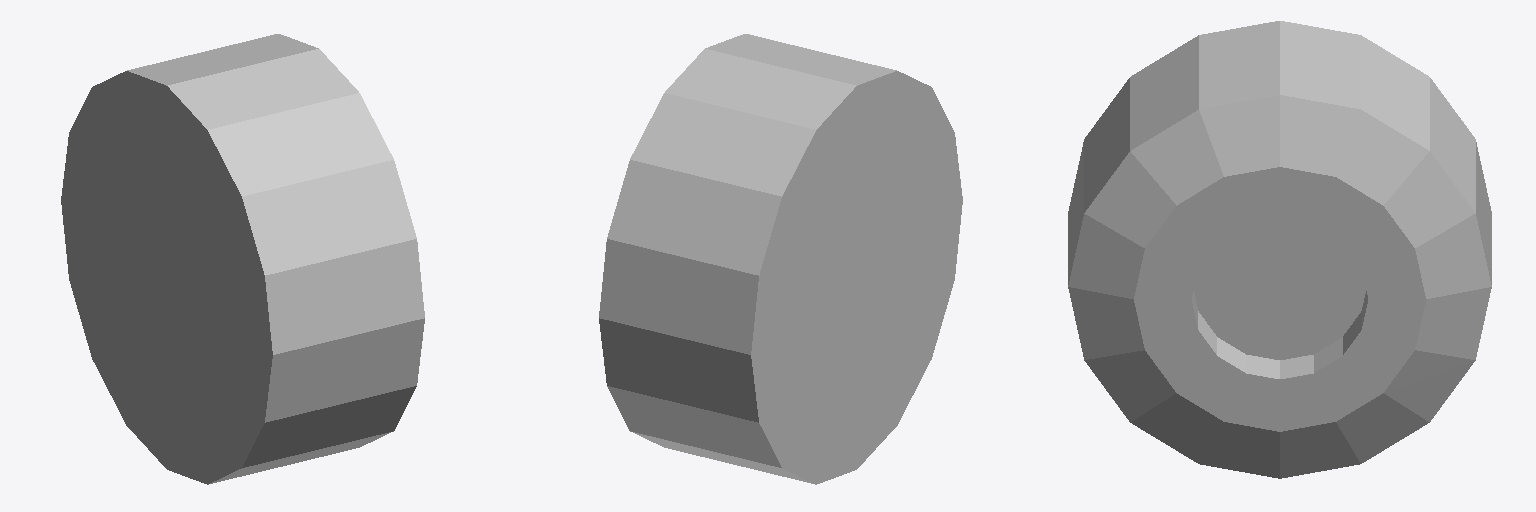
Rendered from tire.obj.
3 renders of one model, left to right at view 1: azimuth 30°, elevation 25°; view 2: azimuth 150°, elevation 25°; view 3: azimuth 270°, elevation 25°, orthographic.
Visible parts, largest first — view 1: Cylinder.001; view 2: Cylinder.001; view 3: Cylinder.001.
Boxes of the visible parts, <box> form: Cylinder.001: <box>61,34,424,484</box>; Cylinder.001: <box>599,34,962,484</box>; Cylinder.001: <box>1068,21,1491,478</box>.
Size of the model in its own units: 0.288 by 0.5936 by 0.5936.